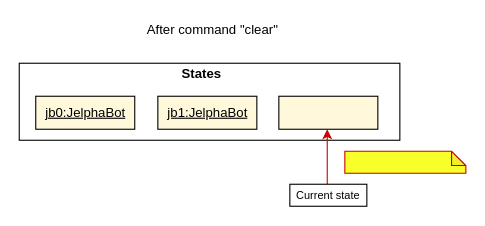
Image size: 485x226. Some labels were removed from this diagram. The centre of each missing label's shape, as x and y in pixels:
jb2:JelphaBot: point (328, 112)
State jb2 deleted.: point (405, 161)
